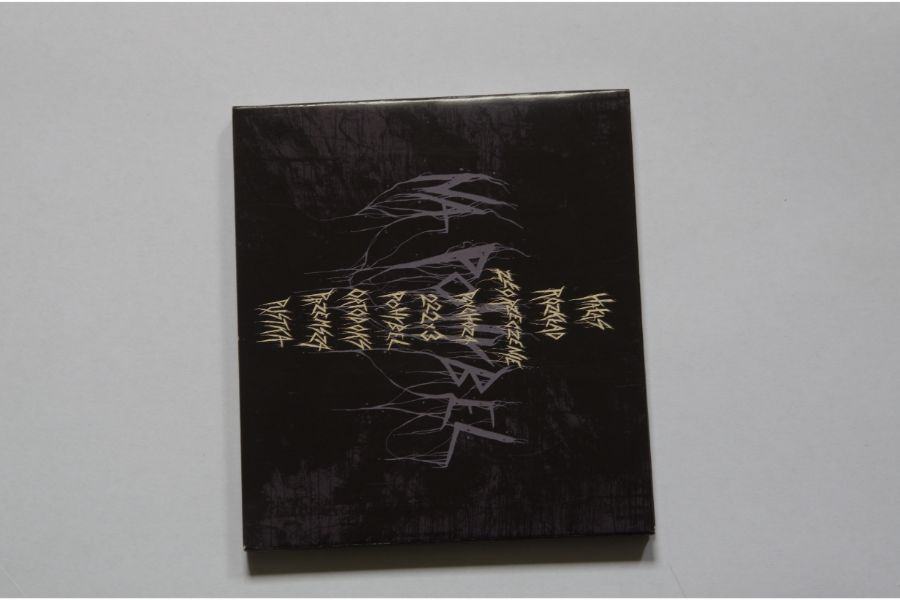album: (231, 89, 658, 552)
